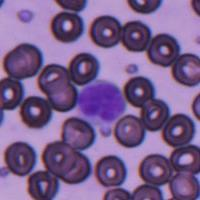M: (77, 80, 125, 125)
